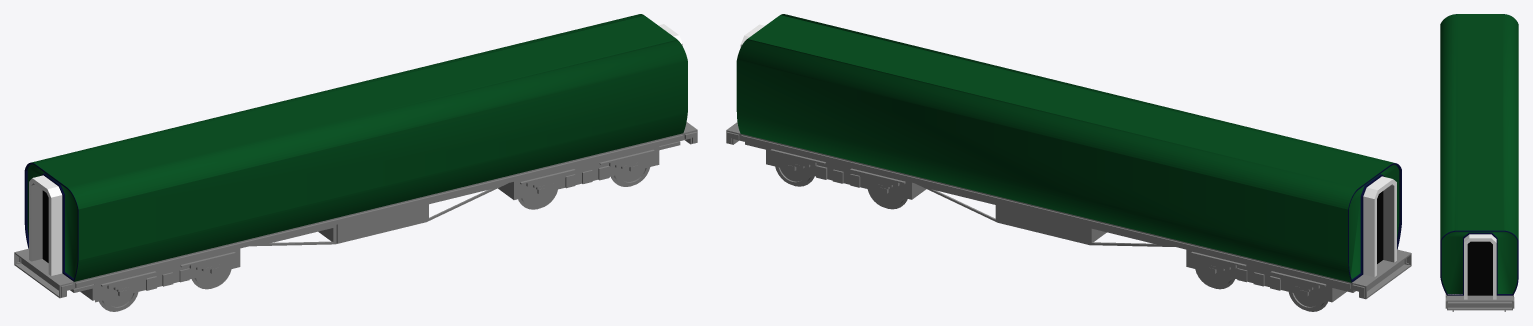
The model's file is Bogey (Green).fbx.
3 views of the same model, side by side, from view 1: azimuth 30°, elevation 25°; view 2: azimuth 150°, elevation 25°; view 3: azimuth 270°, elevation 25° (orthographic). The views are drawn at different scales.
Parts seen in each view (by area): view 1: Bogey; view 2: Bogey; view 3: Bogey.
Part boxes in pixels (bbox=[...]): Bogey: bbox=[14, 14, 697, 311]; Bogey: bbox=[726, 14, 1411, 311]; Bogey: bbox=[1440, 14, 1518, 311].
Bounding box in the file's own units: 16240 × 3248 × 2366.
